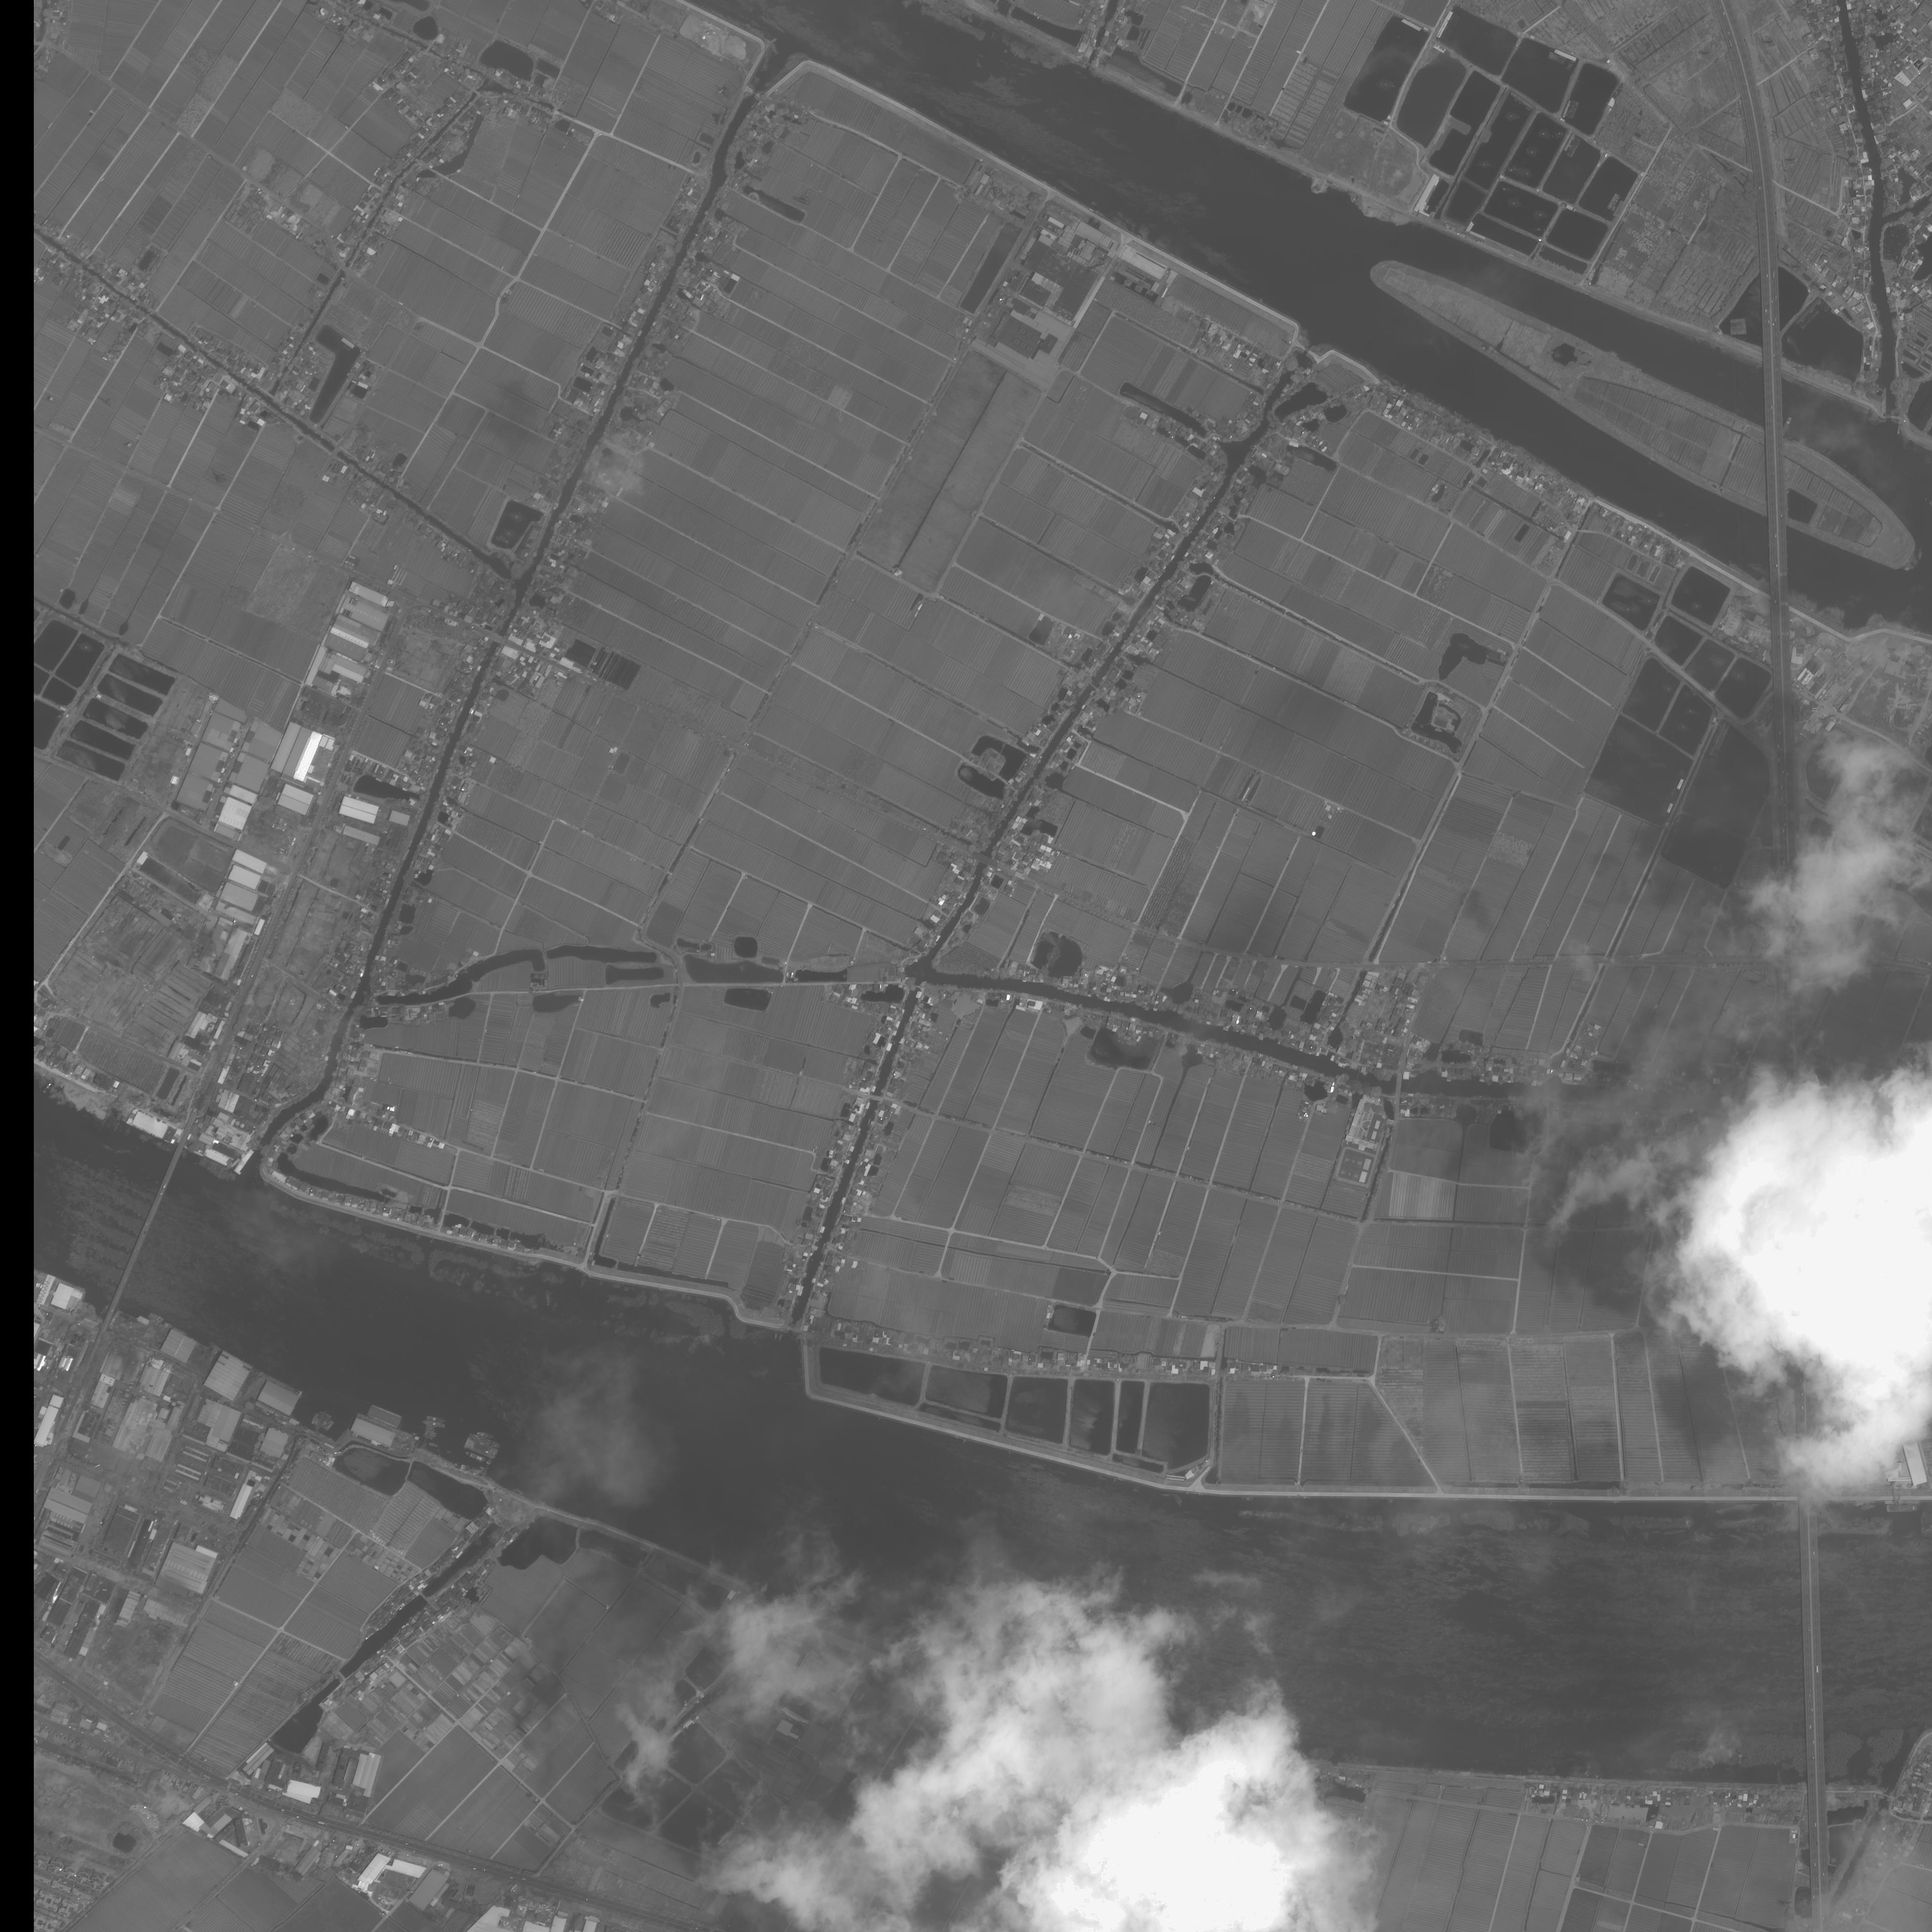ship: (468, 1432, 503, 1451), (464, 1450, 485, 1463), (421, 1419, 447, 1429), (319, 1413, 332, 1430), (477, 1431, 496, 1441), (426, 1415, 446, 1423), (324, 1420, 335, 1433), (314, 1411, 322, 1426), (311, 1413, 318, 1425)
